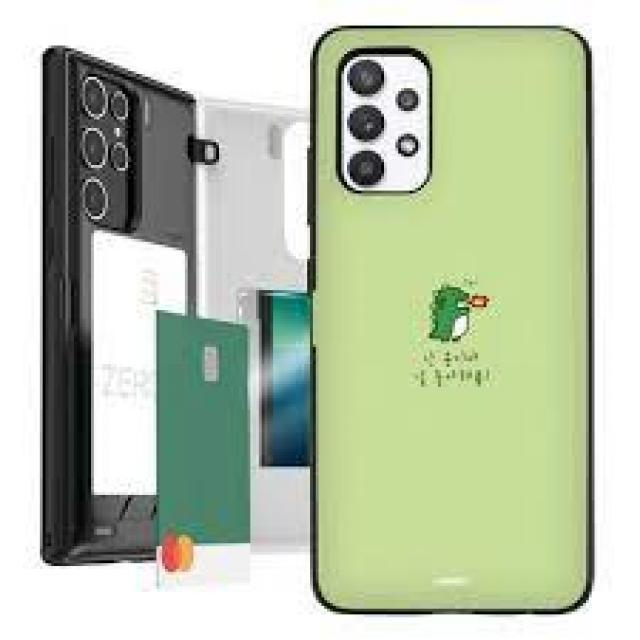phone: (306, 19, 598, 619)
